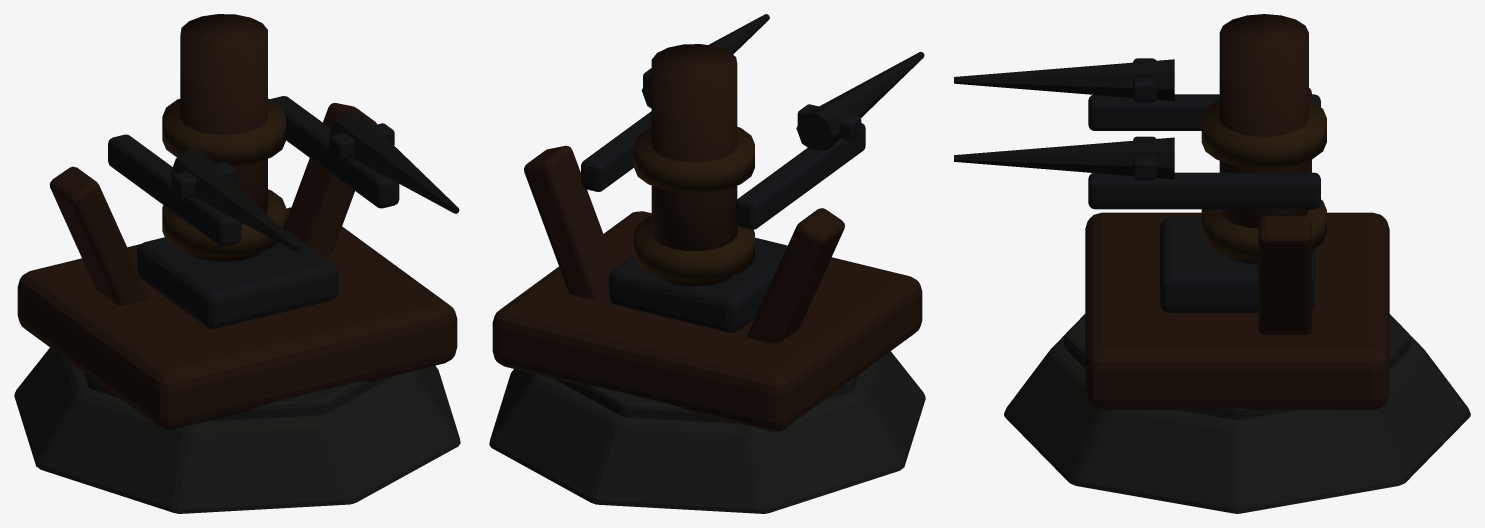
The model's file is TowerAir0_pose.obj.
3 renders of one model, left to right at view 1: azimuth 30°, elevation 25°; view 2: azimuth 150°, elevation 25°; view 3: azimuth 270°, elevation 25°, orthographic. The views are drawn at different scales.
Visible parts, largest first — view 1: oak_sky_platform, cut_stone_socket_lower_course, iron_mast_socket, oak_launch_mast, oak_angled_stay, iron_sky_rail, oak_angled_stay.001, bronze_guide_collar.001, iron_sky_rail.001, sky_lance, sky_lance.001, bronze_guide_collar (+3 smaller); view 2: oak_sky_platform, cut_stone_socket_lower_course, oak_launch_mast, oak_angled_stay.001, iron_mast_socket, oak_angled_stay, iron_sky_rail, bronze_guide_collar.001, bronze_guide_collar, sky_lance, cut_stone_socket_upper_course, iron_sky_rail.001 (+2 smaller); view 3: oak_sky_platform, cut_stone_socket_lower_course, oak_launch_mast, iron_sky_rail.001, iron_mast_socket, oak_angled_stay.001, sky_lance, sky_lance.001, bronze_guide_collar.001, iron_sky_rail, bronze_guide_collar, cut_stone_socket_upper_course (+2 smaller).
Part boxes in pixels (box(x1,y1,x2,y2)): oak_sky_platform: box(17, 207, 457, 429); cut_stone_socket_lower_course: box(14, 347, 460, 513); iron_mast_socket: box(136, 230, 338, 328); oak_launch_mast: box(180, 14, 267, 261); oak_angled_stay: box(49, 166, 149, 305); iron_sky_rail: box(108, 134, 241, 246); oak_angled_stay.001: box(286, 103, 376, 256); bronze_guide_collar.001: box(162, 98, 285, 166); iron_sky_rail.001: box(270, 96, 399, 208); sky_lance: box(170, 149, 301, 252); sky_lance.001: box(328, 111, 459, 213); bronze_guide_collar: box(162, 189, 285, 256); oak_sky_platform: box(492, 211, 922, 431); cut_stone_socket_lower_course: box(489, 351, 925, 513); oak_launch_mast: box(651, 44, 737, 286); oak_angled_stay.001: box(524, 145, 615, 299); iron_mast_socket: box(609, 237, 787, 332); oak_angled_stay: box(747, 208, 844, 343); iron_sky_rail: box(735, 123, 865, 229); bronze_guide_collar.001: box(634, 126, 754, 192); bronze_guide_collar: box(634, 215, 754, 281); sky_lance: box(796, 51, 924, 151); cut_stone_socket_upper_course: box(554, 375, 858, 423); iron_sky_rail.001: box(581, 111, 651, 191); oak_sky_platform: box(1085, 212, 1389, 409); cut_stone_socket_lower_course: box(1004, 334, 1470, 513); oak_launch_mast: box(1219, 14, 1308, 264); iron_sky_rail.001: box(1088, 172, 1320, 209); iron_mast_socket: box(1160, 217, 1314, 312); oak_angled_stay.001: box(1258, 216, 1311, 334); sky_lance: box(954, 59, 1174, 101); sky_lance.001: box(954, 137, 1174, 179); bronze_guide_collar.001: box(1201, 100, 1326, 168); iron_sky_rail: box(1088, 94, 1320, 130); bronze_guide_collar: box(1201, 199, 1326, 260); cut_stone_socket_upper_course: box(1064, 314, 1410, 419).
Size of the model in its own units: 1.57 by 1.42 by 1.73.
